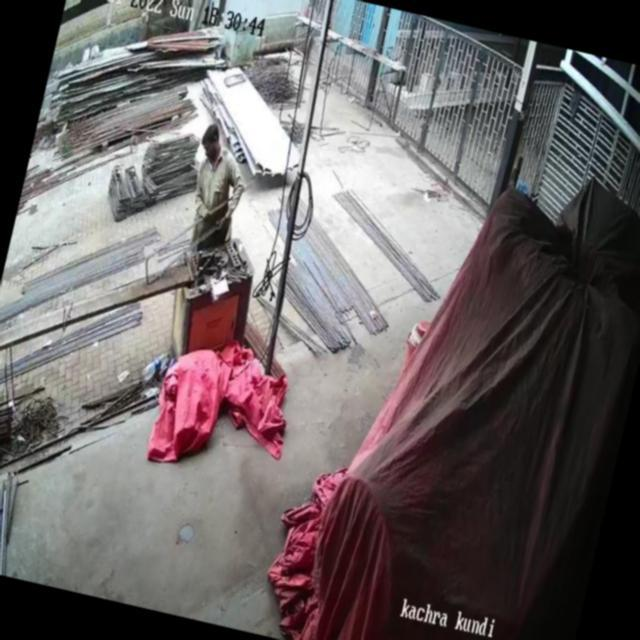person: (174, 116, 255, 254)
